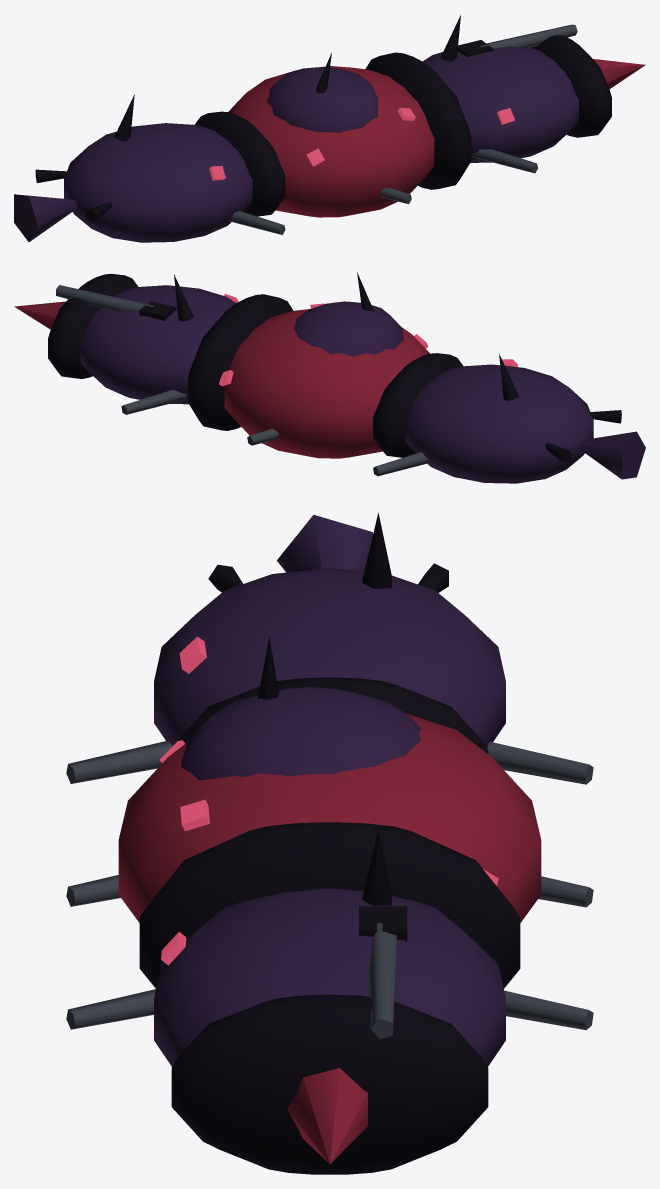
The model's file is chorister-directorate.glb.
The picture shows the model from 3 angles, top to bottom: view 1: azimuth 30°, elevation 25°; view 2: azimuth 150°, elevation 25°; view 3: azimuth 270°, elevation 25°; orthographic projection. The views are drawn at different scales.
Parts seen in each view (by area): view 1: tergite_2, tergite_1, tergite_0, tergite_seam_1, bladder_dome, tergite_seam_2, tergite_seam_0, telson, spine_gun, limb_s2, rostrum, limb_s0 (+5 smaller); view 2: tergite_1, tergite_2, tergite_0, tergite_seam_1, bladder_dome, tergite_seam_2, tergite_seam_0, telson, spine_gun, limb_p2, rostrum, limb_p0 (+5 smaller); view 3: tergite_seam_0, tergite_2, tergite_1, tergite_0, tergite_seam_1, bladder_dome, rostrum, tergite_seam_2, telson, spine_gun, limb_p0, limb_s0 (+7 smaller).
Part boxes in pixels (<box>): tergite_2: <box>64,123,252,242</box>; tergite_1: <box>228,66,434,217</box>; tergite_0: <box>423,46,578,162</box>; tergite_seam_1: <box>365,52,471,189</box>; bladder_dome: <box>267,67,378,132</box>; tergite_seam_2: <box>194,111,285,216</box>; tergite_seam_0: <box>531,35,611,137</box>; telson: <box>14,194,77,241</box>; spine_gun: <box>480,24,577,48</box>; limb_s2: <box>471,149,537,173</box>; rostrum: <box>593,59,645,89</box>; limb_s0: <box>228,210,285,234</box>; tergite_1: <box>224,309,429,458</box>; tergite_2: <box>405,364,593,483</box>; tergite_0: <box>80,285,235,404</box>; tergite_seam_1: <box>188,294,293,430</box>; bladder_dome: <box>293,301,403,356</box>; tergite_seam_2: <box>373,353,463,457</box>; tergite_seam_0: <box>48,273,138,378</box>; telson: <box>580,431,645,479</box>; spine_gun: <box>56,285,153,311</box>; limb_p2: <box>121,389,187,414</box>; rostrum: <box>14,301,65,329</box>; limb_p0: <box>373,452,430,476</box>; tergite_seam_0: <box>171,994,488,1174</box>; tergite_2: <box>154,568,505,748</box>; tergite_1: <box>118,713,541,922</box>; tergite_0: <box>154,888,505,1066</box>; tergite_seam_1: <box>139,822,520,988</box>; bladder_dome: <box>181,687,421,780</box>; rostrum: <box>287,1068,367,1163</box>; tergite_seam_2: <box>178,677,488,753</box>; telson: <box>277,514,372,572</box>; spine_gun: <box>368,922,396,1039</box>; limb_p0: <box>487,741,593,784</box>; limb_s0: <box>66,740,172,783</box>.
Bounding box in the file's own units: 50 × 12.79 × 18.45.
